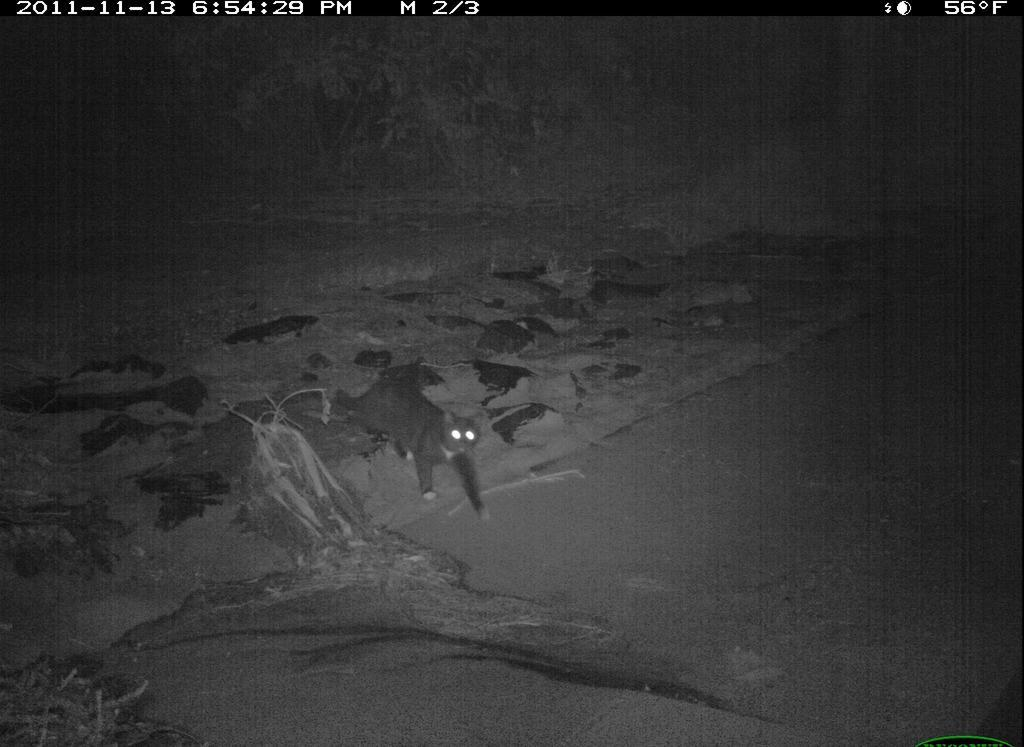cat: (333, 373, 498, 523)
